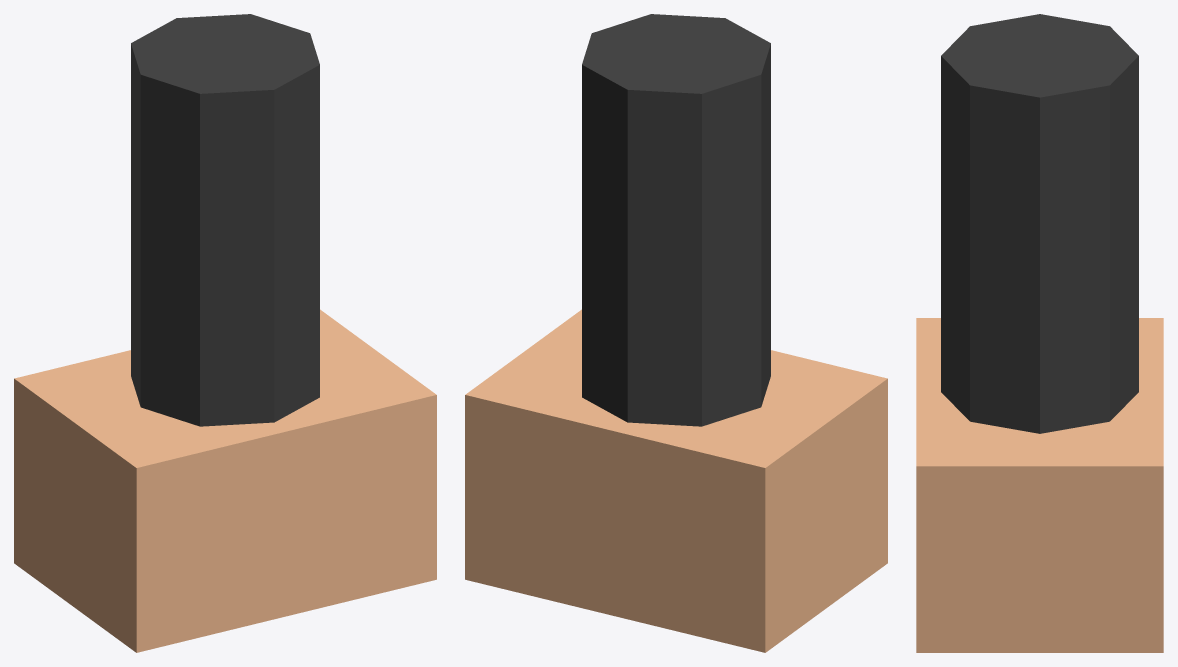
3 renders of one model, left to right at view 1: azimuth 30°, elevation 25°; view 2: azimuth 150°, elevation 25°; view 3: azimuth 270°, elevation 25°, orthographic.
Parts seen in each view (by area): view 1: Stamp base, Grip; view 2: Stamp base, Grip; view 3: Grip, Stamp base.
Boxes of the visible parts, box(x1,y1,x2,y2) form: Stamp base: box(14, 309, 436, 652); Grip: box(131, 14, 319, 426); Stamp base: box(465, 309, 887, 652); Grip: box(582, 14, 770, 426); Grip: box(941, 14, 1138, 433); Stamp base: box(916, 318, 1163, 652).
Bounding box in the file's own units: 0.085 × 0.14 × 0.06.
Materials: 1 (1 with a texture image).
